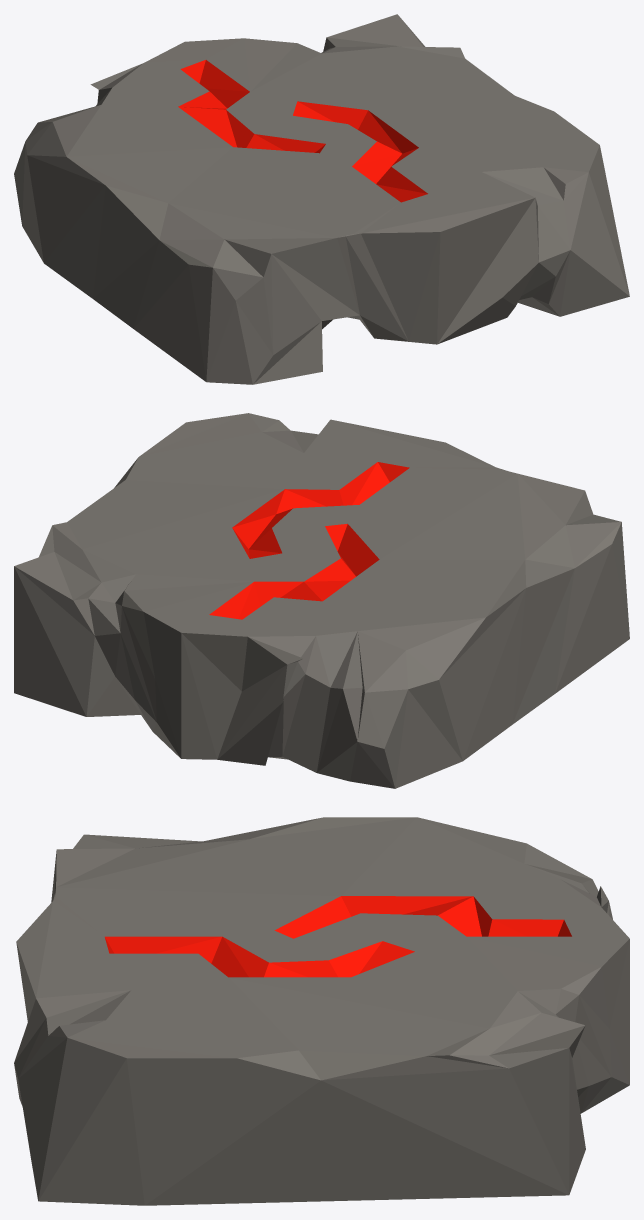
File: SM_Env_Rune_Square_05.fbx
The picture shows the model from 3 angles, top to bottom: view 1: azimuth 30°, elevation 25°; view 2: azimuth 150°, elevation 25°; view 3: azimuth 270°, elevation 25°; orthographic projection. The views are drawn at different scales.
Parts seen in each view (by area): view 1: SM_Env_Rune_Square_05; view 2: SM_Env_Rune_Square_05; view 3: SM_Env_Rune_Square_05.
Part boxes in pixels (left/top/right/bottom): SM_Env_Rune_Square_05: left=14, top=14, right=629, bottom=384; SM_Env_Rune_Square_05: left=14, top=413, right=629, bottom=788; SM_Env_Rune_Square_05: left=14, top=817, right=629, bottom=1205.
Size of the model in its own units: 0.9593 by 0.2744 by 1.04.
